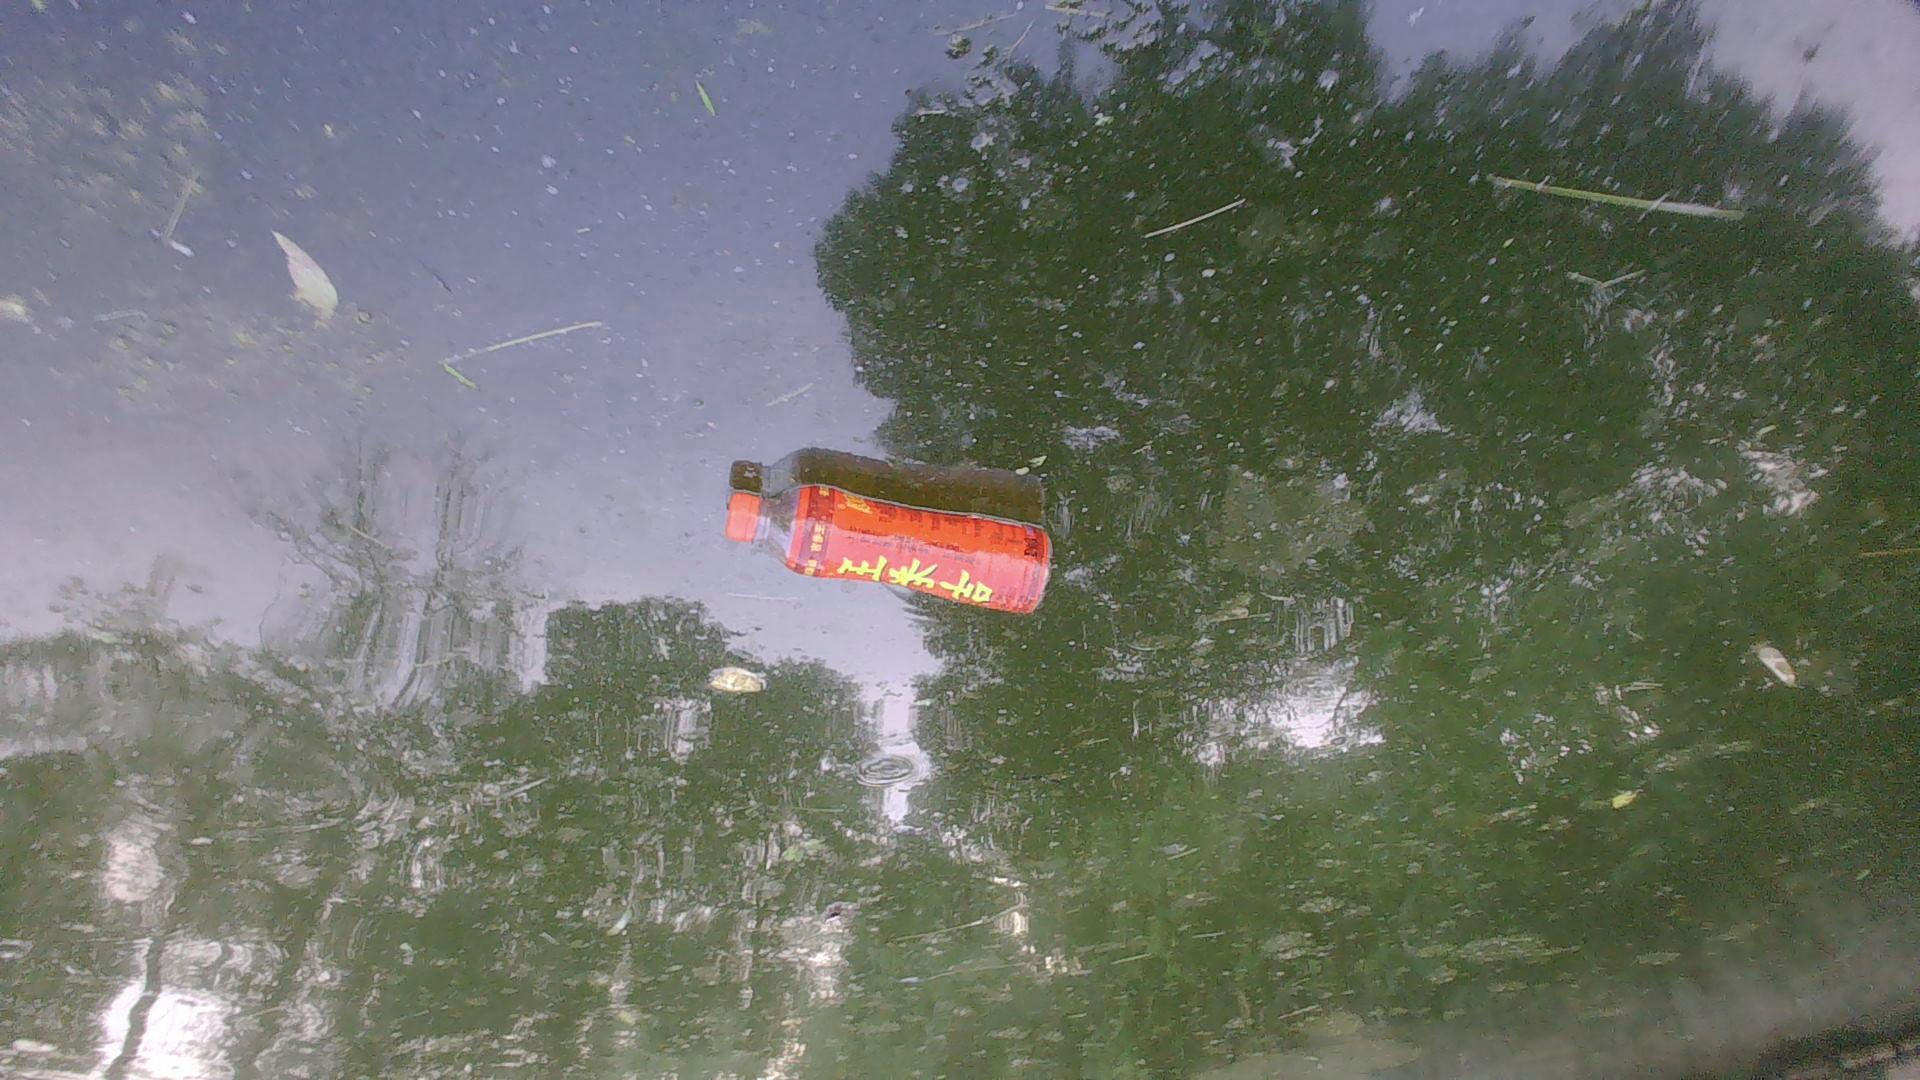Plastic: (717, 483, 1060, 629)
